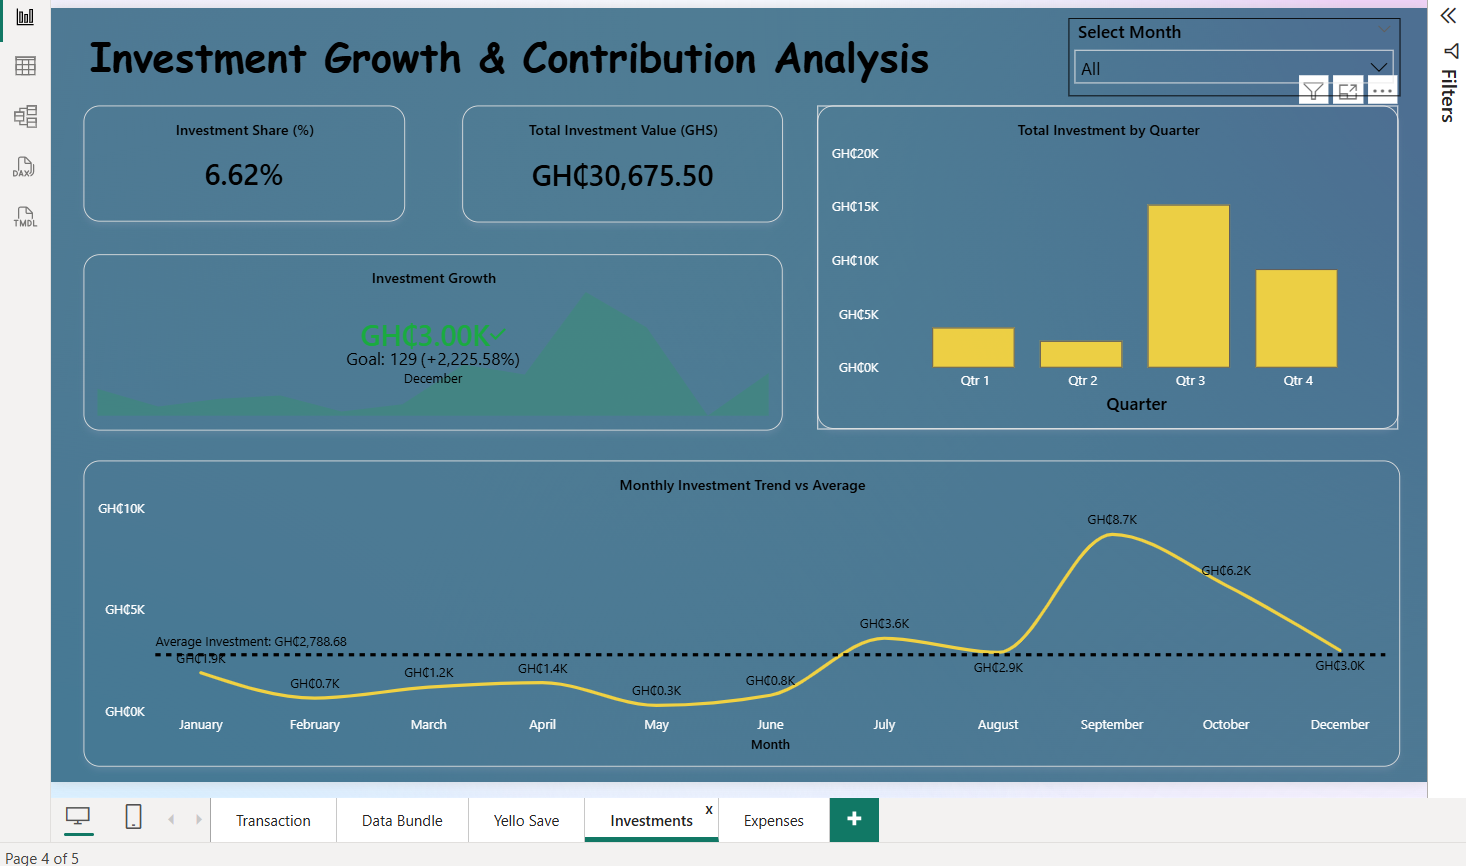

The dashboard page shown, as its layout file describes it:
{"tool":"powerbi","page":{"name":"Investments","canvas":[1280,720],"ordinal":3},"visuals":[{"type":"card","title":"Total Investment Value (GHS)","fields":{"Values":["Calculated Measures.Total Investment"]},"box":[382.2,91.2,298.5,108.7],"z":0},{"type":"card","title":"Investment Share (%)","fields":{"Values":["Calculated Measures.%Investment"]},"box":[30.2,90.7,298.8,108.1],"z":1000},{"type":"columnChart","title":"Total Investment by Quarter","fields":{"Category":["MoMo_Transactions.TRANSACTION DATE.Variation.Date Hierarchy.Quarter"],"Y":["Calculated Measures.Total Investment"]},"box":[713.2,91.2,540.8,301],"z":2000},{"type":"lineChart","title":"Monthly Investment Trend vs Average","fields":{"Category":["MoMo_Transactions.TRANSACTION DATE.Variation.Date Hierarchy.Month"],"Y":["Calculated Measures.Total Investment"]},"box":[30.2,420.9,1224.4,284.9],"z":3000},{"type":"textbox","box":[31.4,14,954.7,64],"z":4000},{"type":"slicer","title":"Select Month","fields":{"Values":["MoMo_Transactions.Month Name"]},"box":[946.8,8.7,308.5,72.4],"z":5000},{"type":"kpi","title":"Investment Growth","fields":{"Indicator":["Calculated Measures.Total Investment"],"TrendLine":["MoMo_Transactions.TRANSACTION DATE.Variation.Date Hierarchy.Month"],"Goal":["CountNonNull(MoMo_Transactions.Month Name)"]},"box":[30,228.6,650.7,163.6],"z":6000}]}

Visuals, with their boxes on the page's 1280x720 design canvas (x1, y1, x2, y2). These are canvas units, not pixel positions in the 1466x866 screenshot, which may show the page scaled, cropped or inside an application window:
"Total Investment Value (GHS)" card: 382 91 681 200
"Investment Share (%)" card: 30 91 329 199
"Total Investment by Quarter" columnChart: 713 91 1254 392
"Monthly Investment Trend vs Average" lineChart: 30 421 1255 706
textbox: 31 14 986 78
"Select Month" slicer: 947 9 1255 81
"Investment Growth" kpi: 30 229 681 392
